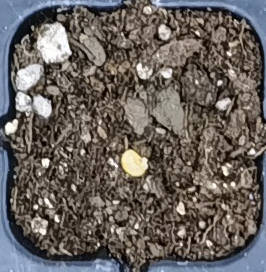pepper seed: (45, 60, 194, 237)
